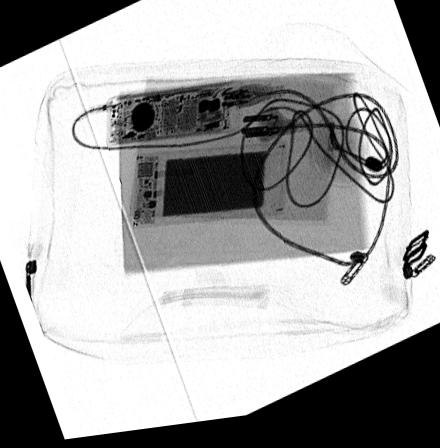Powerbank: (126, 150, 286, 234)
